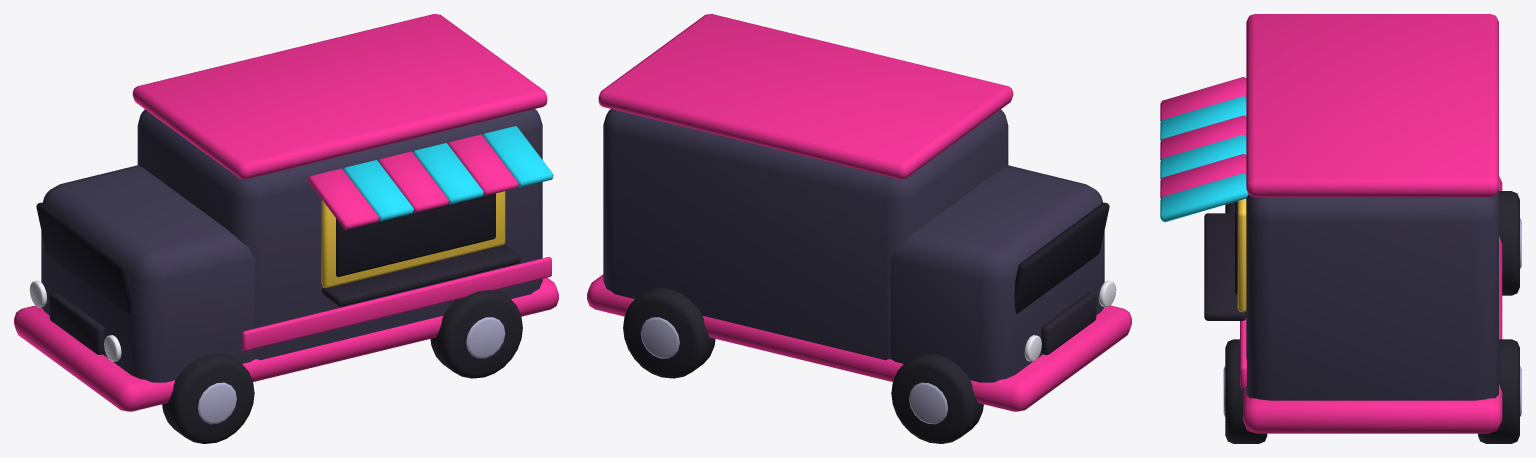
File: Festival_FoodTruck.fbx
3 views of the same model, side by side, from view 1: azimuth 30°, elevation 25°; view 2: azimuth 150°, elevation 25°; view 3: azimuth 270°, elevation 25° (orthographic). The views are drawn at different scales.
Parts seen in each view (by area): view 1: Body, Magenta, Neon_Magenta, Cone, Tire, Cyan, Dark, Yellow, Lilac, White; view 2: Body, Magenta, Neon_Magenta, Tire, Cone, Lilac, Dark, White; view 3: Magenta, Body, Neon_Magenta, Tire, Cyan, Dark, Yellow.
Part boxes in pixels (box(x1,y1,x2,y2)): Body: box(41, 109, 542, 382); Magenta: box(132, 14, 547, 229); Neon_Magenta: box(14, 257, 558, 411); Cone: box(36, 193, 495, 314); Tire: box(162, 290, 522, 443); Cyan: box(343, 126, 553, 221); Dark: box(49, 244, 520, 354); Yellow: box(321, 191, 505, 287); Lilac: box(198, 317, 505, 424); White: box(29, 280, 121, 361); Body: box(603, 109, 1104, 382); Magenta: box(598, 14, 1013, 179); Neon_Magenta: box(587, 274, 1131, 411); Tire: box(623, 288, 983, 443); Cone: box(1014, 202, 1109, 314); Lilac: box(640, 317, 947, 424); Dark: box(1041, 292, 1096, 354); White: box(1024, 280, 1116, 361); Magenta: box(1160, 14, 1498, 198); Body: box(1246, 189, 1498, 400); Neon_Magenta: box(1240, 176, 1502, 433); Tire: box(1225, 191, 1519, 443); Cyan: box(1160, 96, 1248, 222); Dark: box(1204, 213, 1246, 320); Yellow: box(1237, 198, 1246, 312).
Size of the model in its own units: 19.68 by 11.28 by 12.37.
